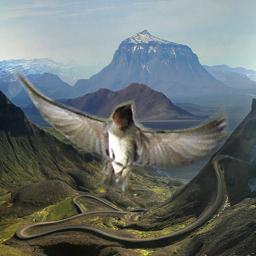Swallow: (12, 69, 231, 200)
